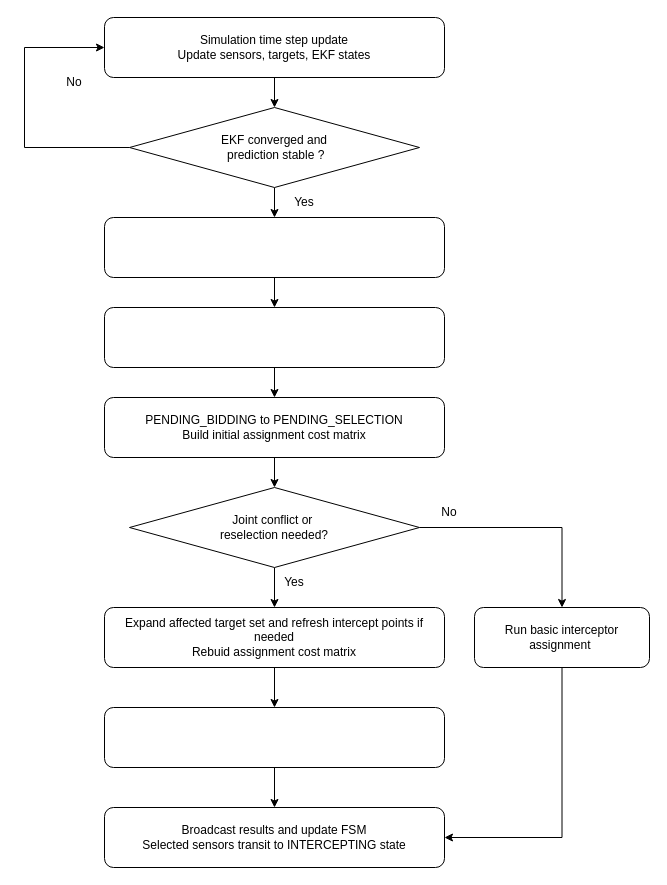
Image size: 667x885. Some labels were removed from this diagram. Here are the shapes that lost their labels. From the top down, the centre of each, then its label:
the point at 274,247: Target enters PENDING_BROADCAST broadcast target ID, intercept point
the point at 274,337: PENDING_BROADCAST to PENDING_BIDDING Candidate sensor compute bids
the point at 274,737: Run the globally joint interceptor assignment
